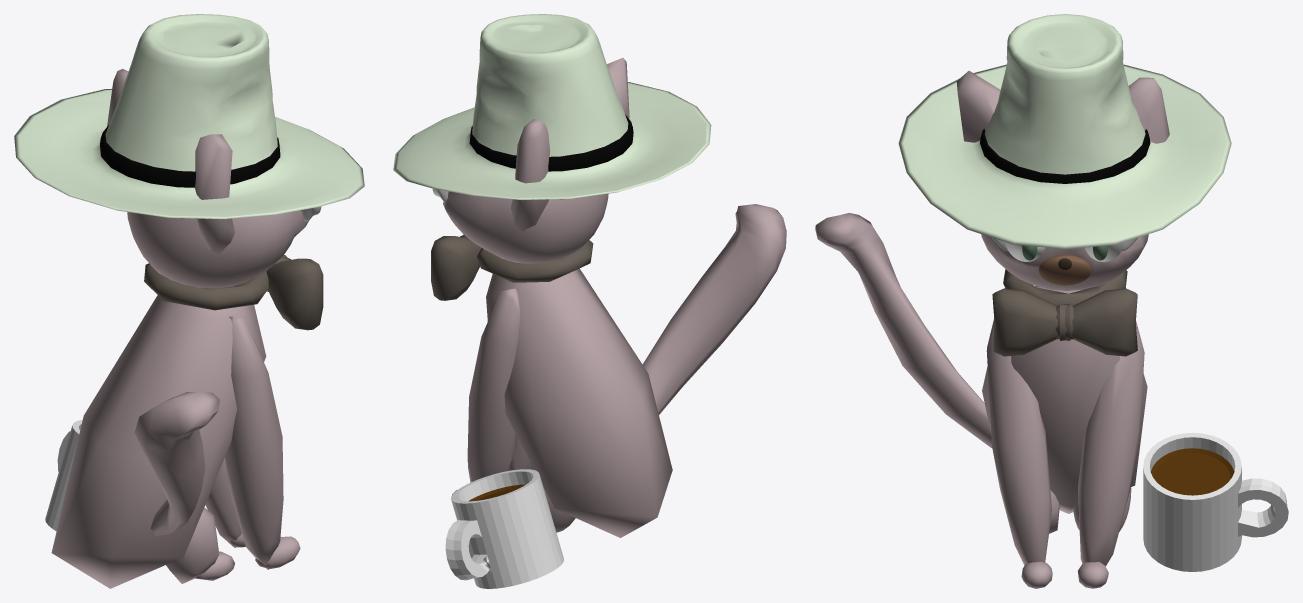
File: coffee.glb
3 views of the same model, side by side, from view 1: azimuth 30°, elevation 25°; view 2: azimuth 150°, elevation 25°; view 3: azimuth 270°, elevation 25° (orthographic). The views are drawn at different scales.
Parts seen in each view (by area): view 1: Cylinder.001, Cube.010, Cube.007, Cube, Cube.012, Cube.013, Cube.011, Torus, Cylinder.002, Cube.003, Cylinder, Cube.009 (+2 smaller); view 2: Cylinder.001, Cube.010, Cube.012, Cylinder, Cube, Cube.007, Cube.001, Cube.013, Torus, Cylinder.002, Cube.011; view 3: Cylinder.001, Cube.007, Cylinder, Cube.012, Cube.010, Cube.013, Cube, Cube.011, Cylinder.002, Cube.001, Torus, Cube.009 (+2 smaller).
Boxes of the visible parts, x1,y1,x2,y2 form: Cylinder.001: [14, 14, 364, 219]; Cube.010: [51, 295, 266, 588]; Cube.007: [205, 316, 283, 569]; Cube: [127, 210, 308, 288]; Cube.012: [134, 391, 219, 535]; Cube.013: [266, 255, 323, 330]; Cube.011: [194, 134, 234, 254]; Torus: [144, 263, 270, 310]; Cylinder.002: [100, 125, 280, 187]; Cube.003: [166, 507, 219, 583]; Cylinder: [45, 420, 82, 531]; Cube.009: [229, 533, 300, 568]; Cylinder.001: [393, 14, 711, 200]; Cube.010: [486, 268, 672, 537]; Cube.012: [642, 204, 786, 414]; Cylinder: [445, 469, 563, 588]; Cube: [443, 191, 608, 263]; Cube.007: [467, 288, 532, 482]; Cube.001: [511, 119, 550, 231]; Cube.013: [431, 234, 481, 300]; Torus: [477, 240, 593, 282]; Cylinder.002: [469, 114, 633, 171]; Cube.011: [607, 57, 629, 118]; Cylinder.001: [898, 14, 1231, 249]; Cube.007: [986, 318, 1144, 566]; Cylinder: [1143, 432, 1288, 571]; Cube.012: [815, 213, 992, 447]; Cube.010: [982, 286, 1147, 513]; Cube.013: [992, 288, 1137, 356]; Cube: [981, 234, 1148, 290]; Cube.011: [956, 70, 1000, 142]; Cylinder.002: [980, 129, 1150, 183]; Cube.001: [1128, 77, 1169, 143]; Torus: [1003, 269, 1127, 305]; Cube.009: [1021, 561, 1108, 588].
Size of the model in its own units: 3.65 by 6.23 by 4.99.
